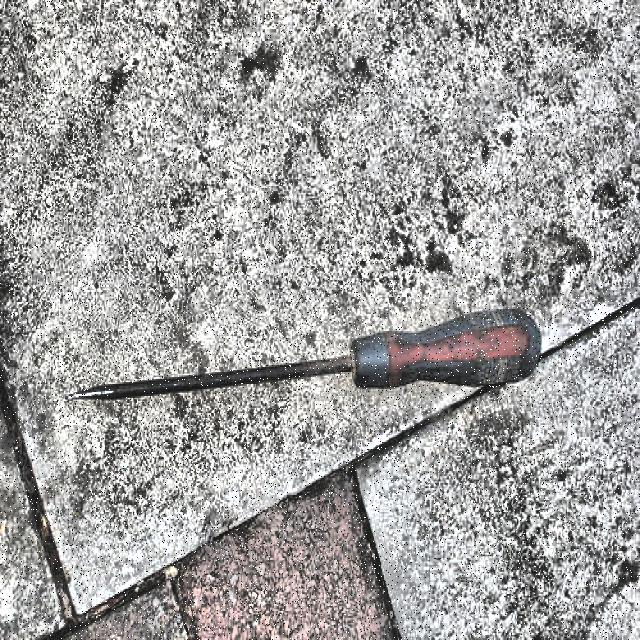screwdriver: (67, 308, 543, 400)
